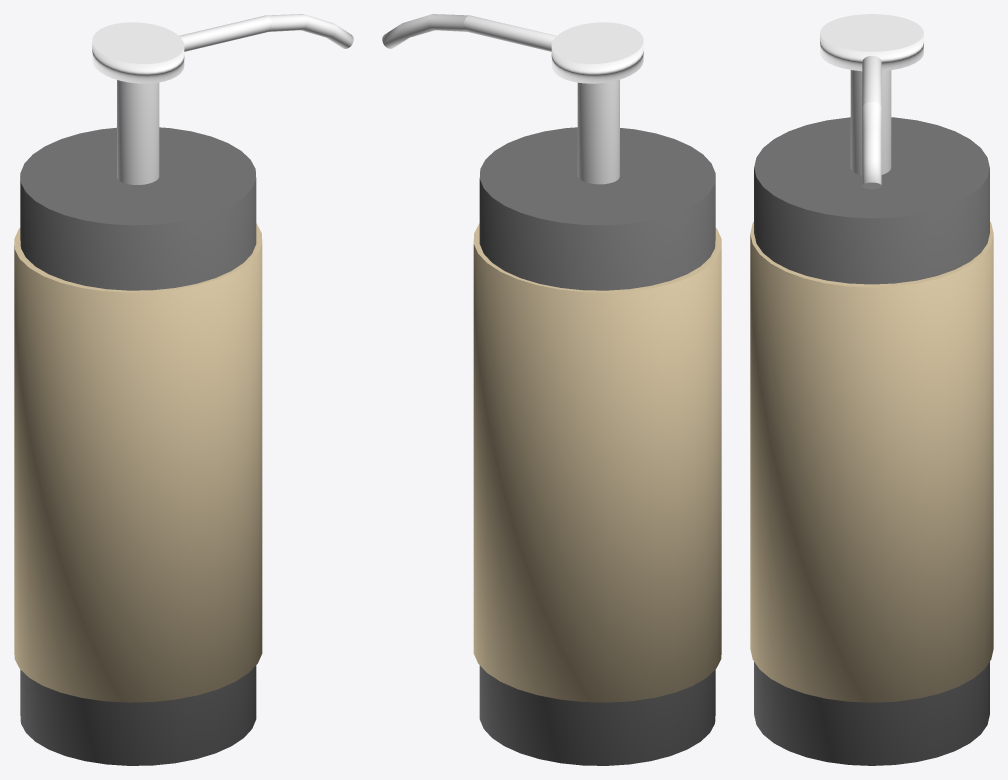
File: vanilla_syrup.glb
The picture shows the model from 3 angles, left to right: view 1: azimuth 30°, elevation 25°; view 2: azimuth 150°, elevation 25°; view 3: azimuth 270°, elevation 25°; orthographic projection.
Visible parts, largest first — view 1: Cylinder.004, Cylinder, Cylinder.002, Cylinder.001, Cylinder.003; view 2: Cylinder.004, Cylinder, Cylinder.002, Cylinder.001, Cylinder.003; view 3: Cylinder.004, Cylinder, Cylinder.002, Cylinder.003, Cylinder.001.
Part boxes in pixels (x1,y1,x2,y2): Cylinder.004: (14,223,262,702); Cylinder: (20,127,256,765); Cylinder.002: (92,22,184,83); Cylinder.001: (117,80,159,184); Cylinder.003: (179,14,353,51); Cylinder.004: (473,223,721,702); Cylinder: (479,127,715,765); Cylinder.002: (551,22,643,83); Cylinder.001: (577,79,619,184); Cylinder.003: (382,14,556,51); Cylinder.004: (750,221,993,702); Cylinder: (754,117,989,765); Cylinder.002: (820,14,923,71); Cylinder.003: (862,56,881,189); Cylinder.001: (850,70,891,175).
Size of the model in its own units: 0.673 by 1.34 by 0.4344.
